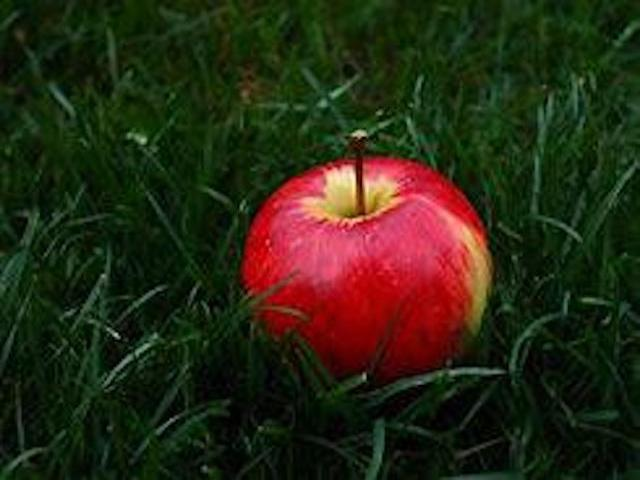apple: (237, 116, 502, 390)
